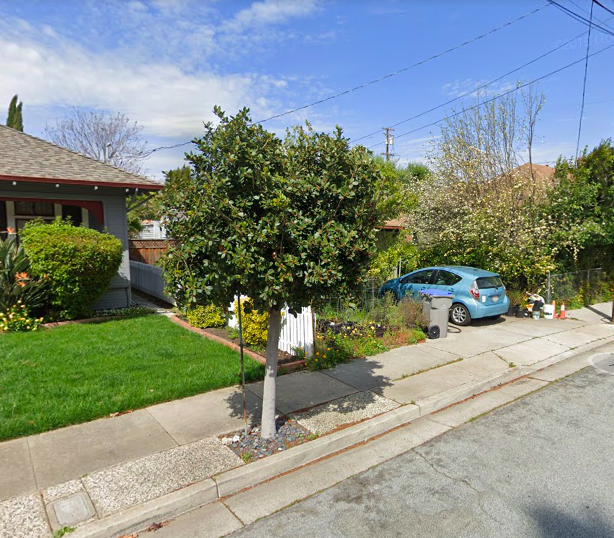tree: (154, 103, 380, 439)
